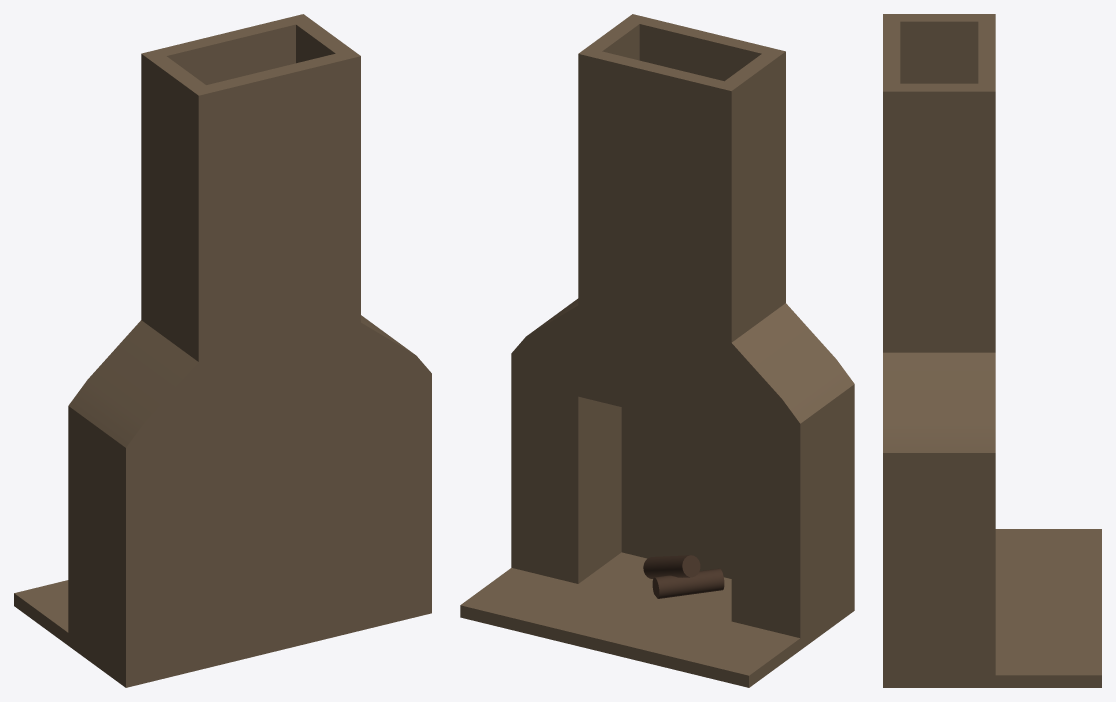
File: Geo_FirePlace.fbx
3 views of the same model, side by side, from view 1: azimuth 30°, elevation 25°; view 2: azimuth 150°, elevation 25°; view 3: azimuth 270°, elevation 25° (orthographic). The views are drawn at different scales.
Parts seen in each view (by area): view 1: pCube3; view 2: pCube3; view 3: pCube3.
Boxes of the visible parts, left/top/right/bottom form: pCube3: left=14, top=14, right=431, bottom=687; pCube3: left=460, top=14, right=854, bottom=687; pCube3: left=883, top=14, right=1101, bottom=687.
Size of the model in its own units: 200 by 359 by 127.
